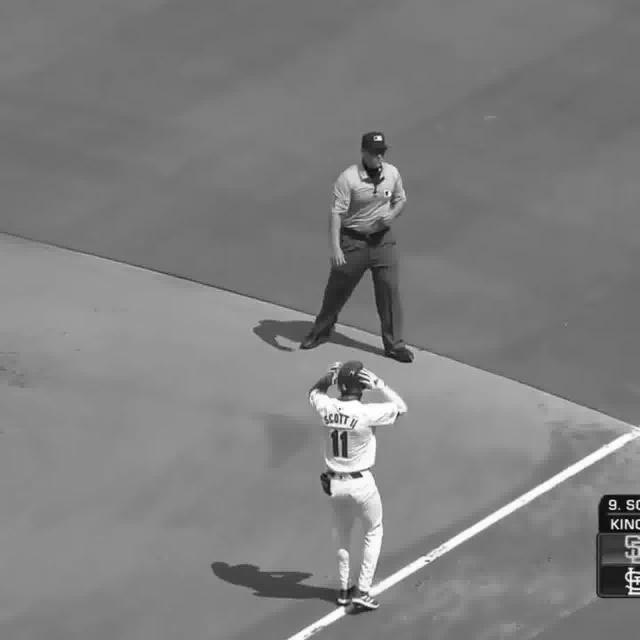shoe: (352, 590, 384, 609), (336, 584, 359, 608)
